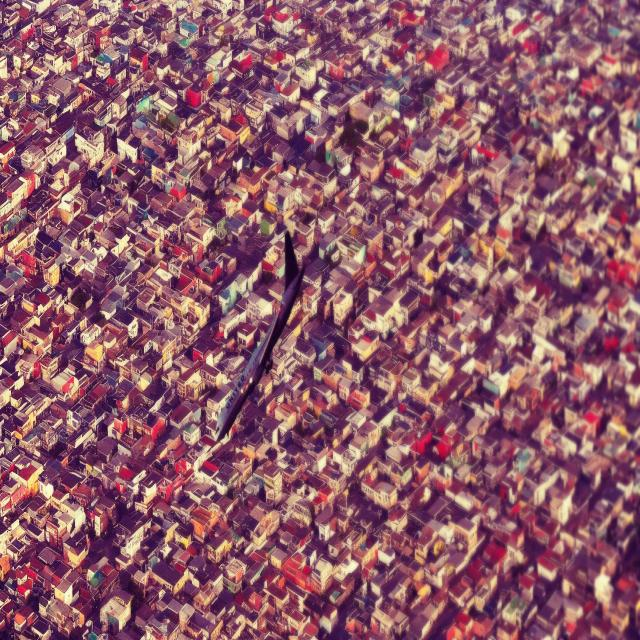airplane: (210, 229, 305, 443)
